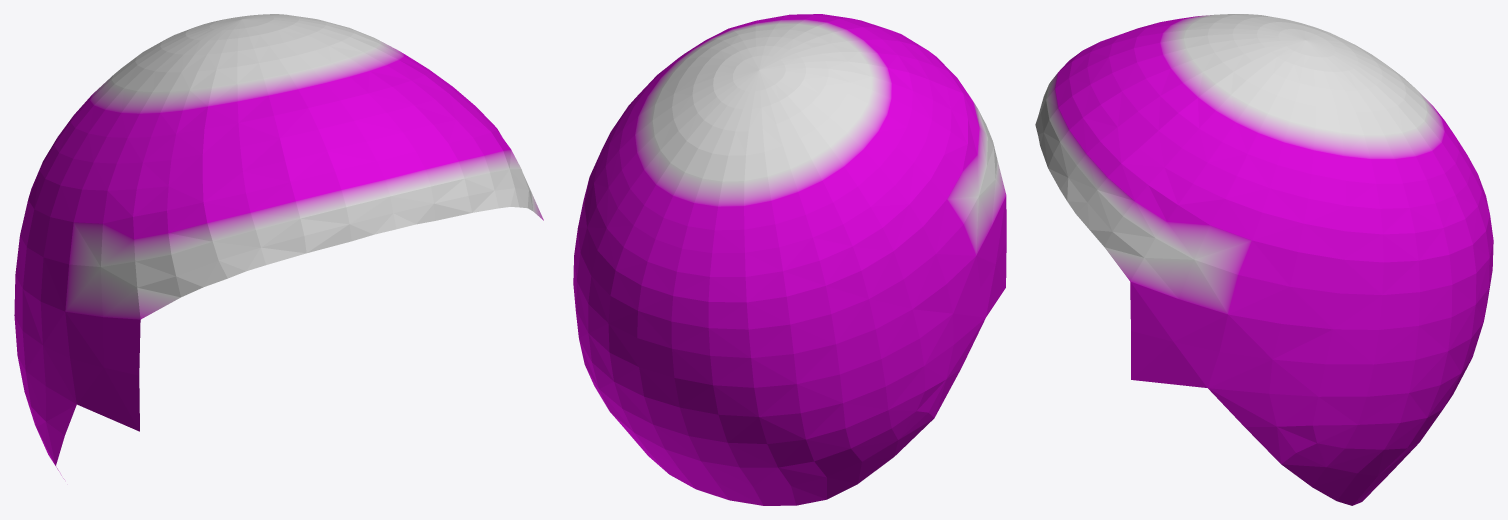
File: hair_46.glb
3 renders of one model, left to right at view 1: azimuth 30°, elevation 25°; view 2: azimuth 150°, elevation 25°; view 3: azimuth 270°, elevation 25°, orthographic. The views are drawn at different scales.
Visible parts, largest first — view 1: shape; view 2: shape; view 3: shape.
Boxes of the visible parts, x1,y1,x2,y2 form: shape: (14, 14, 543, 479); shape: (573, 14, 1006, 505); shape: (1035, 14, 1493, 505).
Size of the model in its own units: 52.6 by 57.59 by 53.98.
